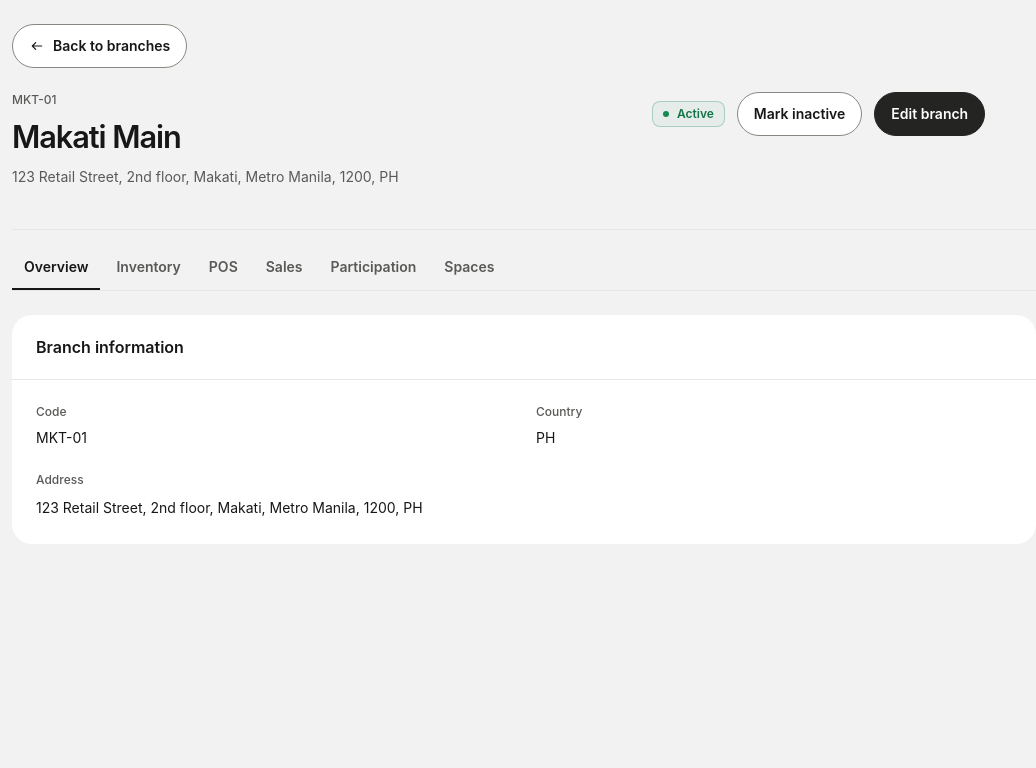
BranchDetail › switches between branch workspace tabs and exposes one panel at a time
The width and height of the screenshot is (1036, 768).
Check: the heading "Makati Main" is shown, box [12,118,181,155]
Click the tab "Inventory" at (149, 268), box [104,246,193,290]
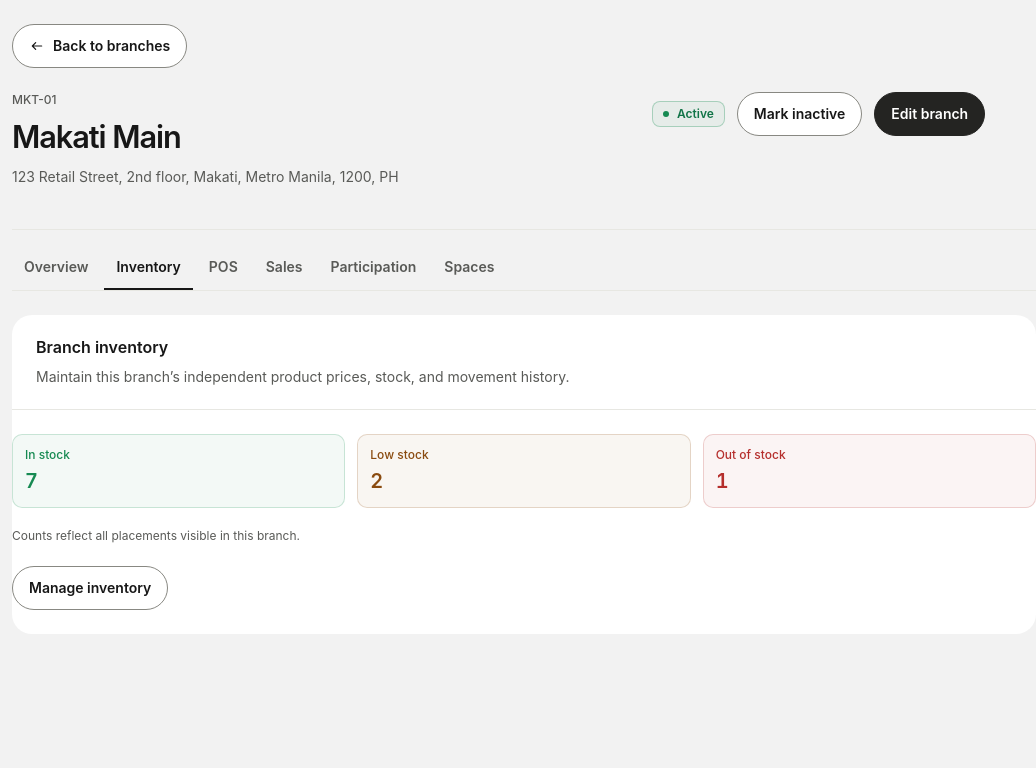
Check: the panel "inventory" is shown, box [12,315,1035,634]
Press ArrowRight in the tab "Inventory", box [104,246,193,290]
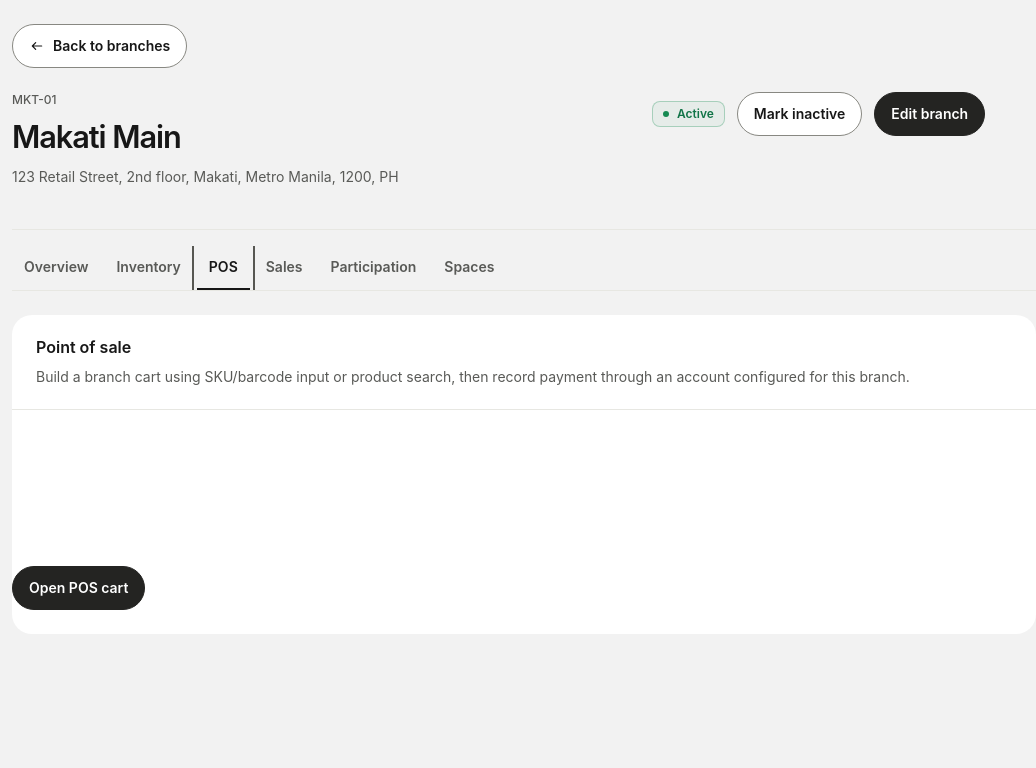
Check: the panel named "POS" is shown, box [12,315,1035,634]
